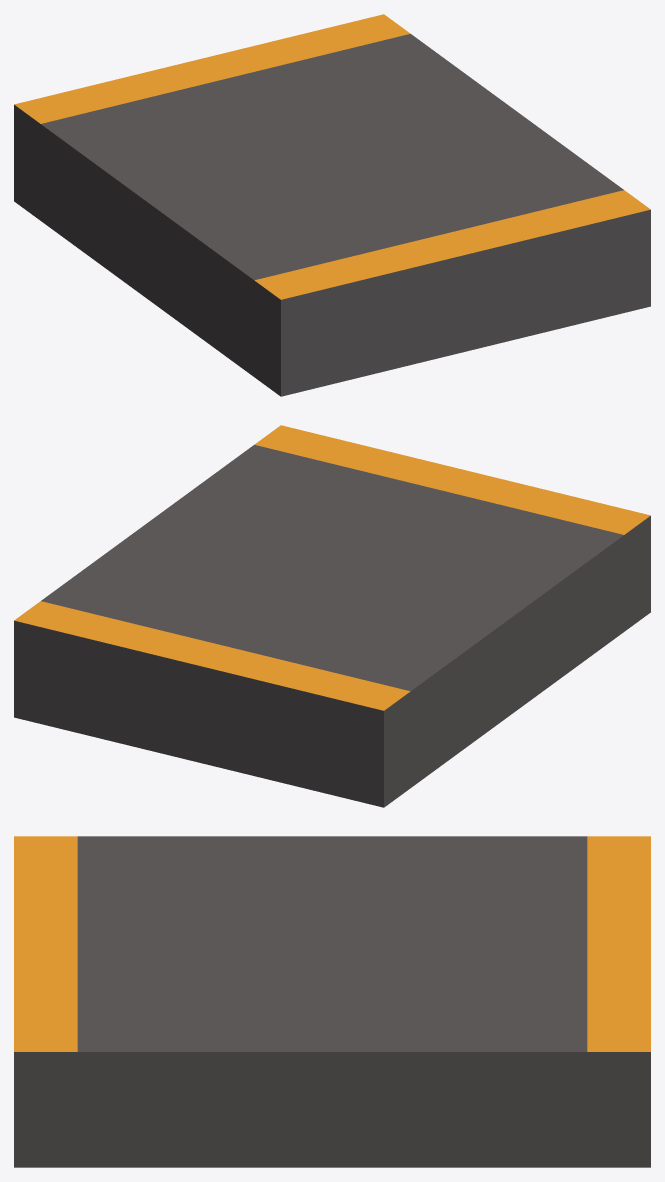
File: buildings_train-station-platform-empty-small.fbx
3 views of the same model, one above another, from view 1: azimuth 30°, elevation 25°; view 2: azimuth 150°, elevation 25°; view 3: azimuth 270°, elevation 25° (orthographic). The views are drawn at different scales.
Visible parts, largest first — view 1: buildings_train_station_platform_empty_small; view 2: buildings_train_station_platform_empty_small; view 3: buildings_train_station_platform_empty_small.
Boxes of the visible parts, x1=… form: buildings_train_station_platform_empty_small: x1=14, y1=14, x2=650, y2=396; buildings_train_station_platform_empty_small: x1=14, y1=425, x2=650, y2=807; buildings_train_station_platform_empty_small: x1=14, y1=836, x2=650, y2=1167.
Bounding box in the file's own units: 160 × 40.05 × 200.
